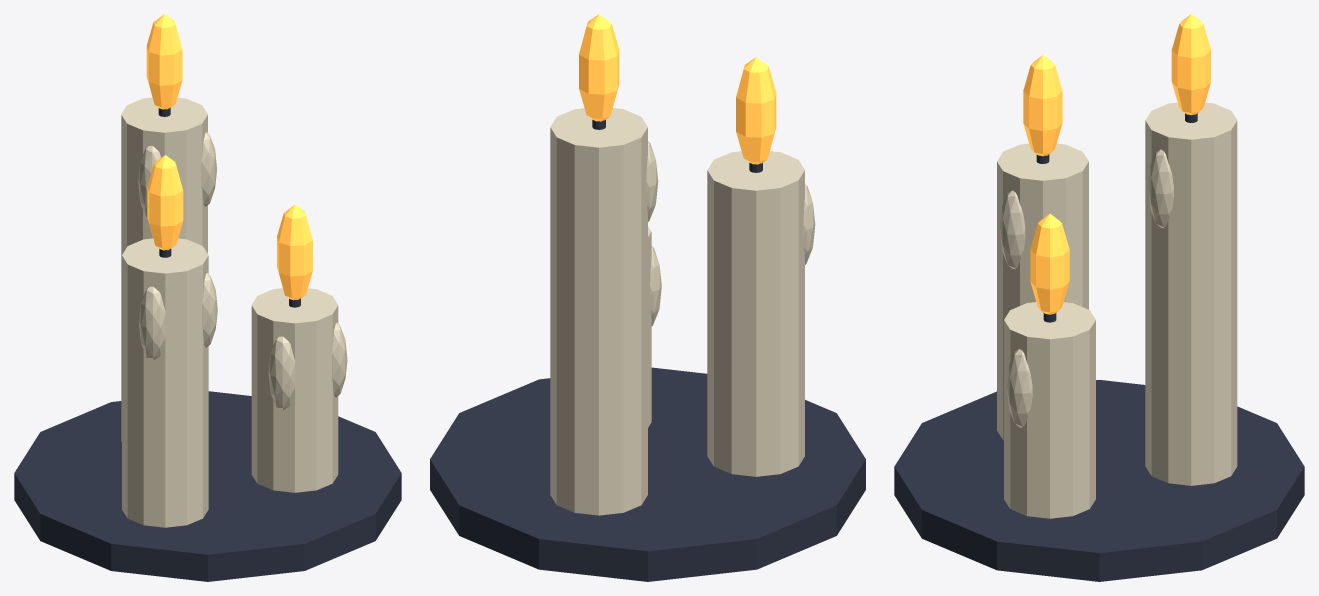
The model's file is moonlit-mischief-candle-trio-924f817d__2160.glb.
3 renders of one model, left to right at view 1: azimuth 30°, elevation 25°; view 2: azimuth 150°, elevation 25°; view 3: azimuth 270°, elevation 25°, orthographic. The views are drawn at different scales.
Parts seen in each view (by area): view 1: candle-trio; view 2: candle-trio; view 3: candle-trio.
Boxes of the visible parts, x1=… form: candle-trio: x1=14, y1=14, x2=401, y2=581; candle-trio: x1=430, y1=14, x2=865, y2=581; candle-trio: x1=894, y1=14, x2=1304, y2=581.
Size of the model in its own units: 0.58 by 0.751 by 0.58.
